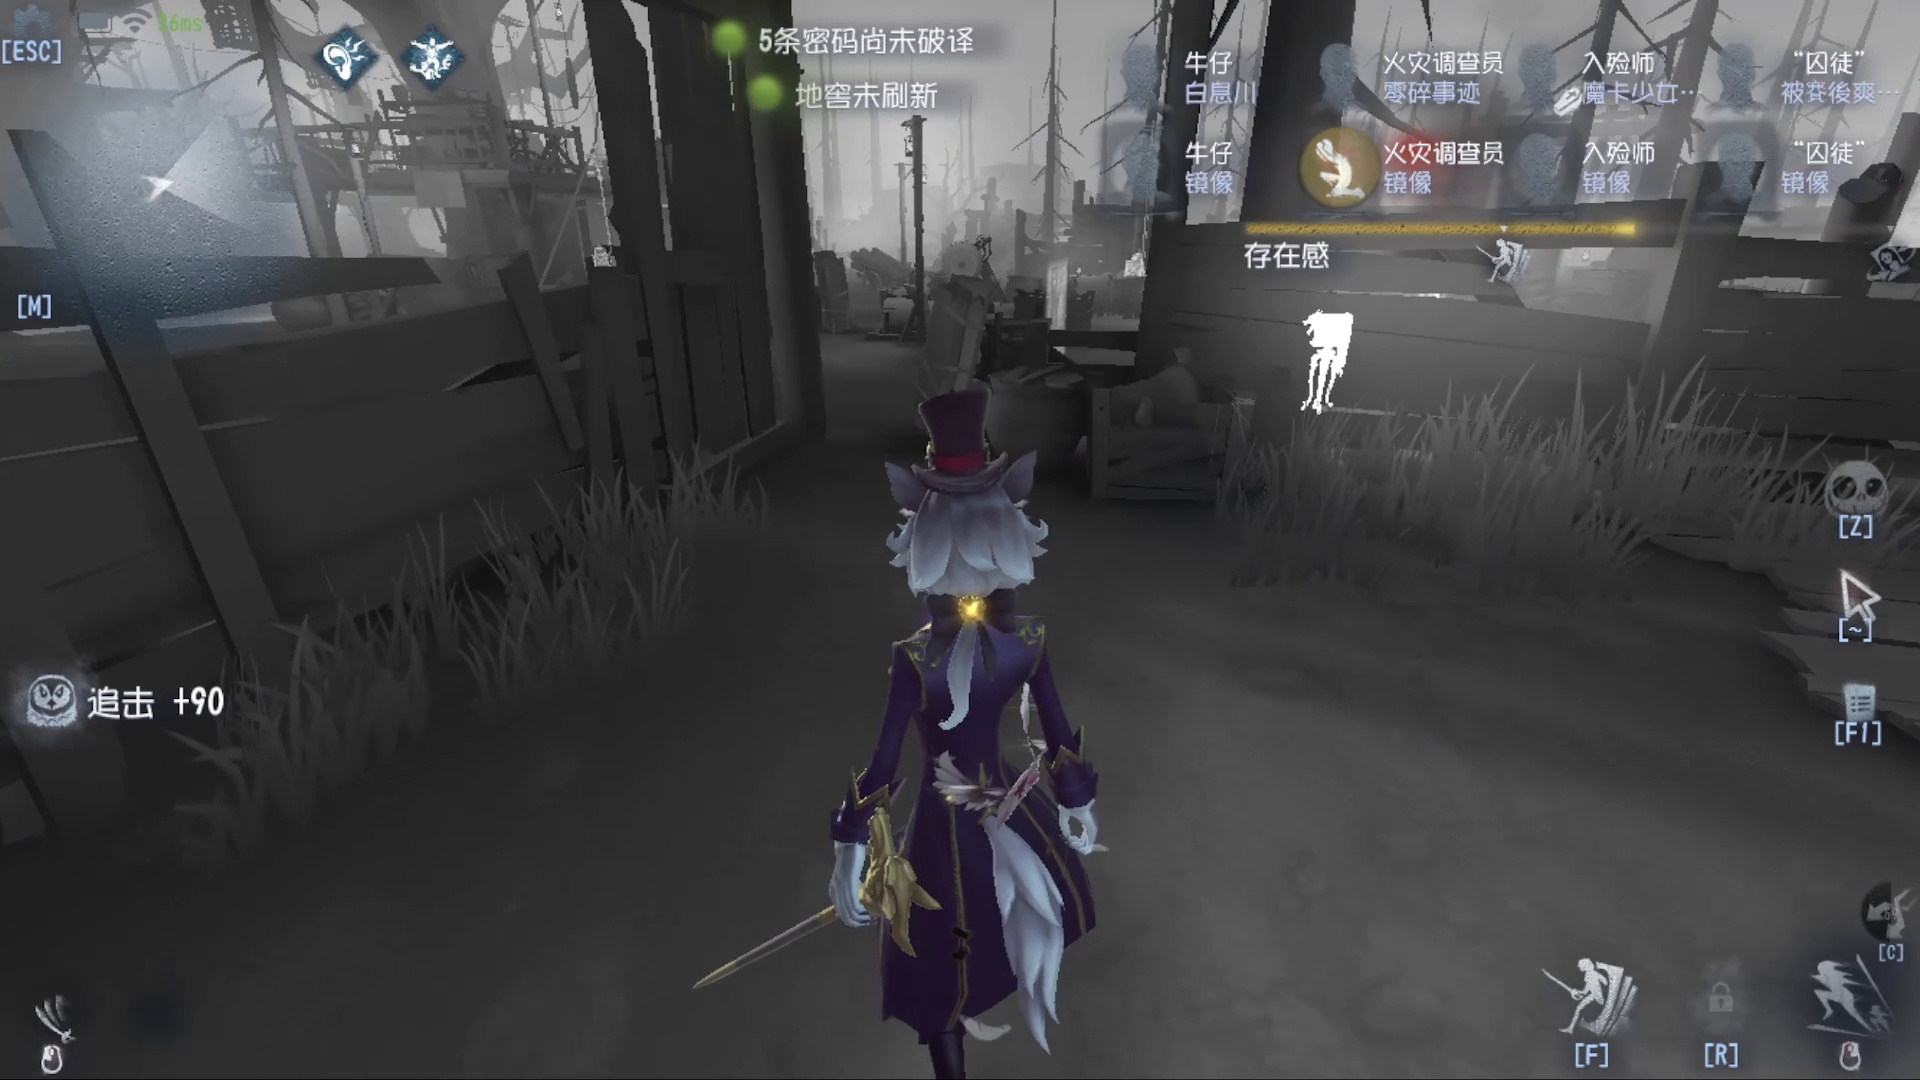木板: (909, 269, 1019, 397)
